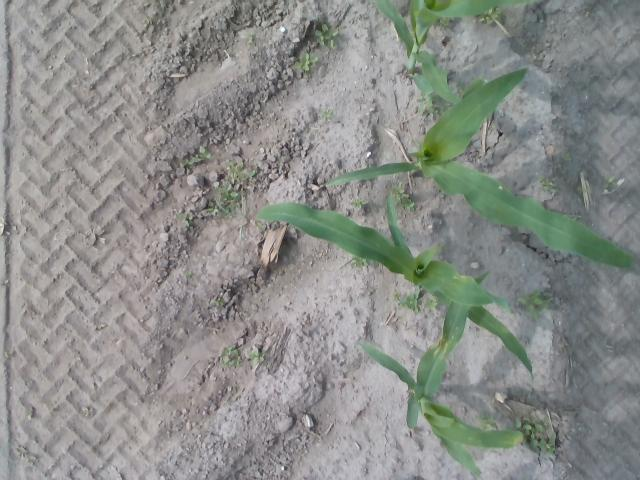Maize: (322, 69, 640, 280), (256, 195, 535, 376), (356, 270, 526, 477), (348, 0, 532, 108)
Weeds: (513, 413, 559, 459), (208, 188, 239, 228), (390, 180, 422, 215), (230, 160, 261, 188), (395, 286, 423, 316), (216, 343, 244, 371), (416, 94, 441, 121), (180, 146, 212, 167), (319, 22, 341, 50), (520, 291, 545, 315), (538, 174, 559, 198), (320, 104, 340, 128), (348, 255, 372, 275), (477, 412, 502, 431), (480, 6, 503, 26), (248, 342, 264, 370), (175, 206, 192, 231), (298, 52, 315, 74), (604, 175, 622, 194), (350, 195, 370, 212), (426, 300, 440, 314), (213, 298, 225, 310), (184, 268, 196, 280), (248, 33, 256, 47)
